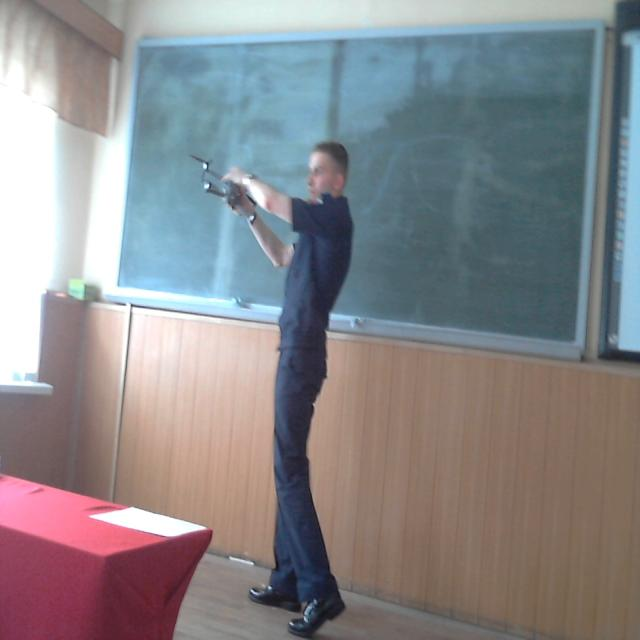drone: (188, 138, 276, 232)
